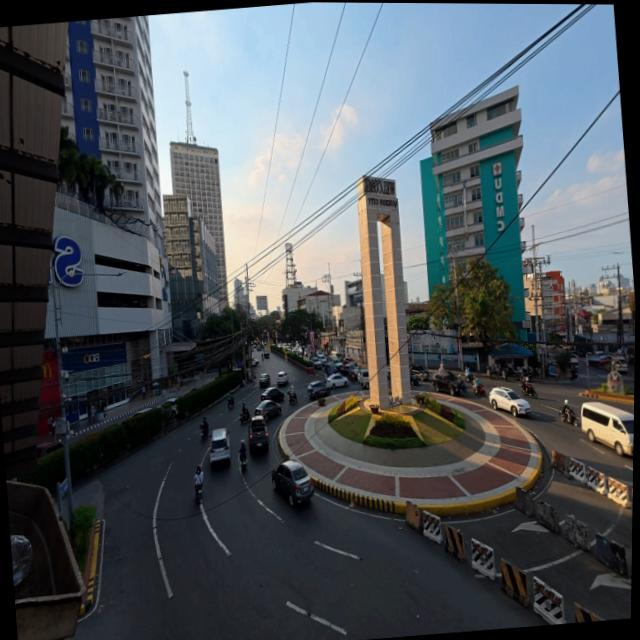car: (271, 460, 313, 505), (488, 388, 529, 416), (246, 415, 268, 453), (208, 429, 229, 466), (431, 370, 461, 395), (254, 400, 280, 420), (307, 380, 329, 399), (36, 441, 62, 457), (260, 387, 283, 402), (410, 363, 428, 381), (326, 374, 347, 389), (160, 397, 177, 414), (340, 363, 357, 380), (130, 407, 151, 418), (587, 351, 606, 363), (258, 372, 271, 387), (323, 363, 337, 376), (276, 372, 287, 386), (408, 370, 418, 385), (334, 363, 343, 373), (313, 358, 321, 369), (342, 357, 353, 364), (252, 359, 258, 366)
motorcycle: (559, 406, 577, 426), (501, 366, 519, 379), (521, 385, 537, 398), (194, 483, 203, 504), (486, 365, 499, 379), (473, 384, 485, 397), (238, 413, 250, 424), (200, 424, 208, 440), (567, 369, 578, 380), (288, 390, 296, 404), (239, 457, 246, 471), (226, 399, 233, 409), (465, 373, 472, 383), (261, 354, 263, 361)
vans: (580, 402, 633, 455), (356, 369, 368, 389), (612, 358, 627, 373)
